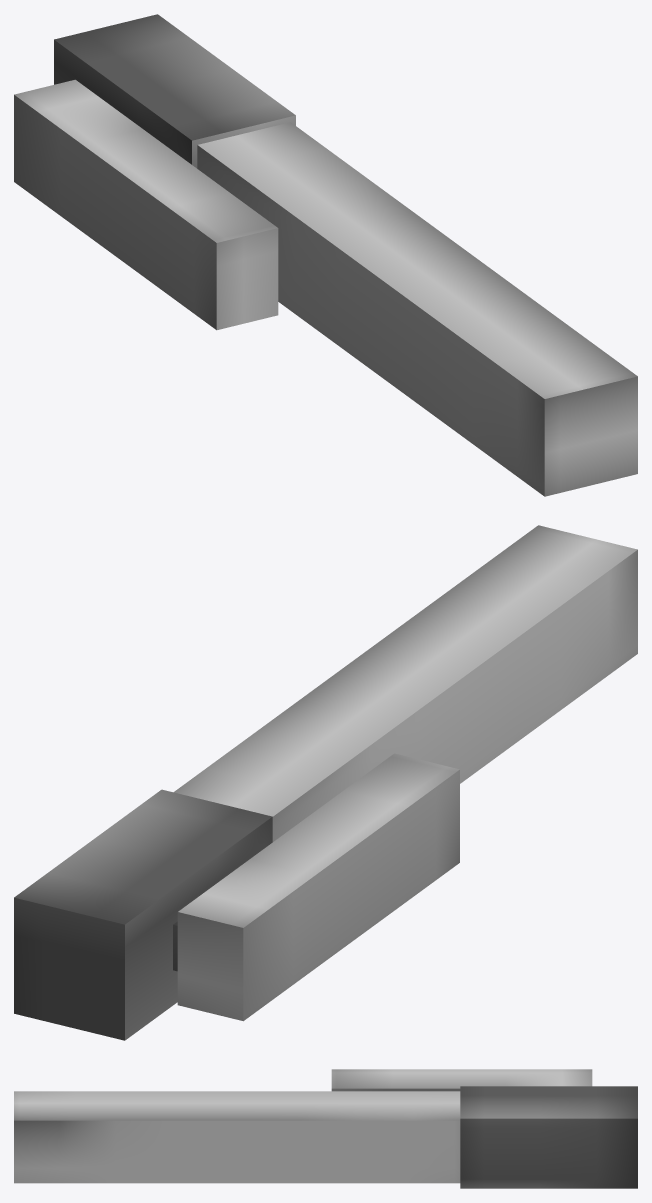
The model's file is Pen.fbx.
3 views of the same model, one above another, from view 1: azimuth 30°, elevation 25°; view 2: azimuth 150°, elevation 25°; view 3: azimuth 270°, elevation 25° (orthographic). The views are drawn at different scales.
Visible parts, largest first — view 1: Pen; view 2: Pen; view 3: Pen.
Part boxes in pixels (x1,y1,x2,y2): Pen: [14, 14, 637, 496]; Pen: [14, 525, 637, 1040]; Pen: [14, 1069, 637, 1188].
Size of the model in its own units: 6.71 by 3.89 by 31.46.
